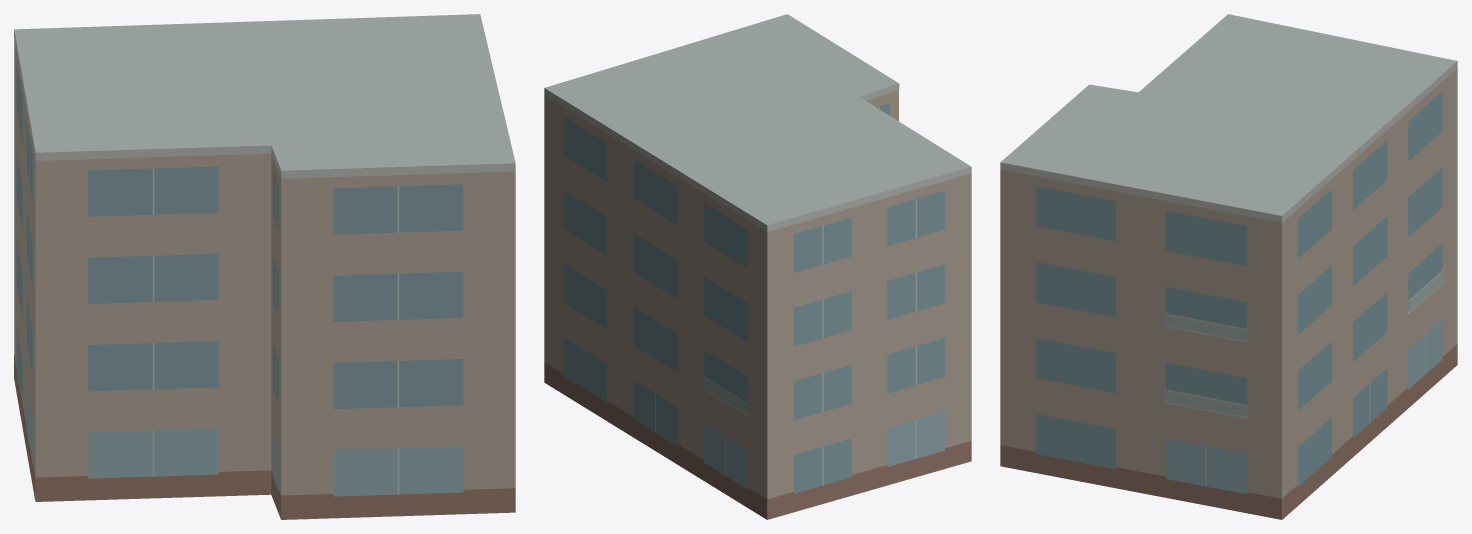
The model's file is survey-upis-33021494.glb.
3 views of the same model, side by side, from view 1: azimuth 30°, elevation 25°; view 2: azimuth 150°, elevation 25°; view 3: azimuth 270°, elevation 25° (orthographic). The views are drawn at different scales.
Parts seen in each view (by area): view 1: survey-upis-33021494.tmp; view 2: survey-upis-33021494.tmp; view 3: survey-upis-33021494.tmp.
Part boxes in pixels (bbox=[...]): survey-upis-33021494.tmp: bbox=[14, 14, 515, 519]; survey-upis-33021494.tmp: bbox=[544, 14, 971, 519]; survey-upis-33021494.tmp: bbox=[1000, 14, 1457, 519].
Size of the model in its own units: 14.98 by 10.5 by 14.33.
